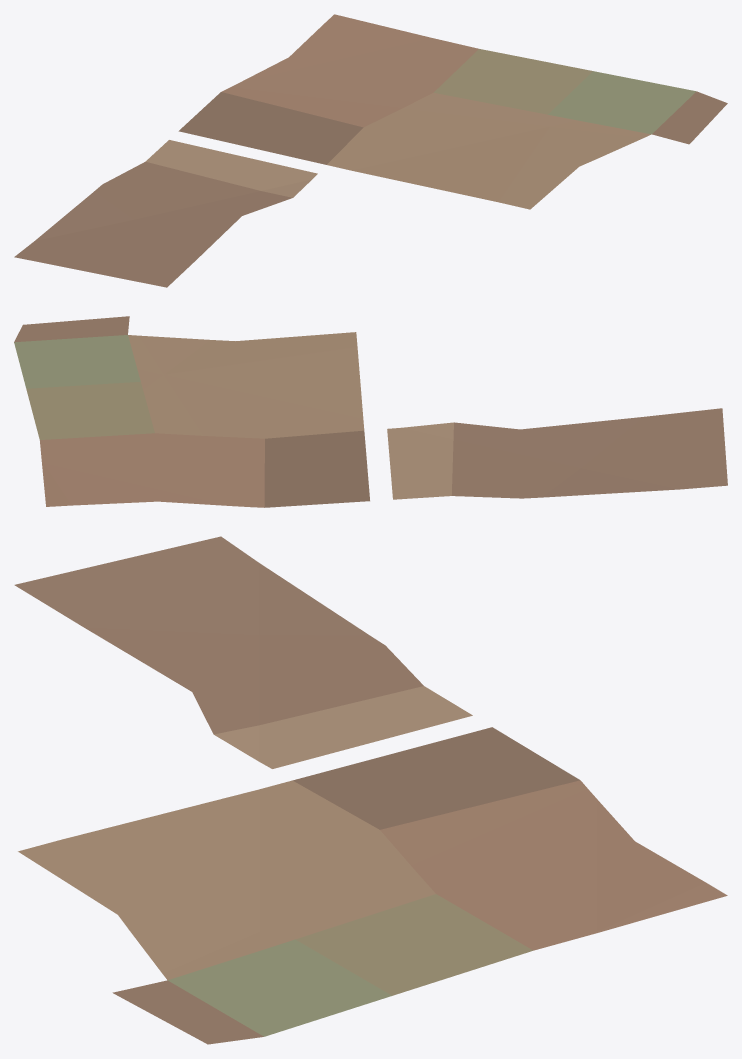
The model's file is farm_15_34_soil.glb.
The picture shows the model from 3 angles, top to bottom: view 1: azimuth 30°, elevation 25°; view 2: azimuth 150°, elevation 25°; view 3: azimuth 270°, elevation 25°; orthographic projection. The views are drawn at different scales.
Parts seen in each view (by area): view 1: geometry_0; view 2: geometry_0; view 3: geometry_0.
Boxes of the visible parts, box(x1,y1,x2,y2) form: geometry_0: box(14, 14, 727, 287); geometry_0: box(14, 316, 727, 507); geometry_0: box(14, 536, 727, 1044).
Size of the model in its own units: 272 by 7.29 by 169.
